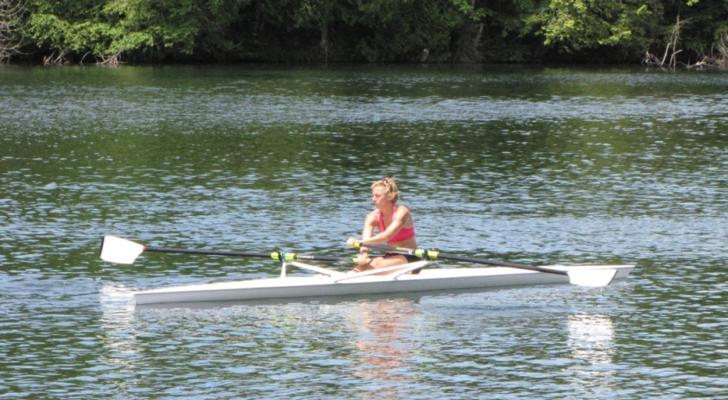person: (350, 179, 419, 276)
